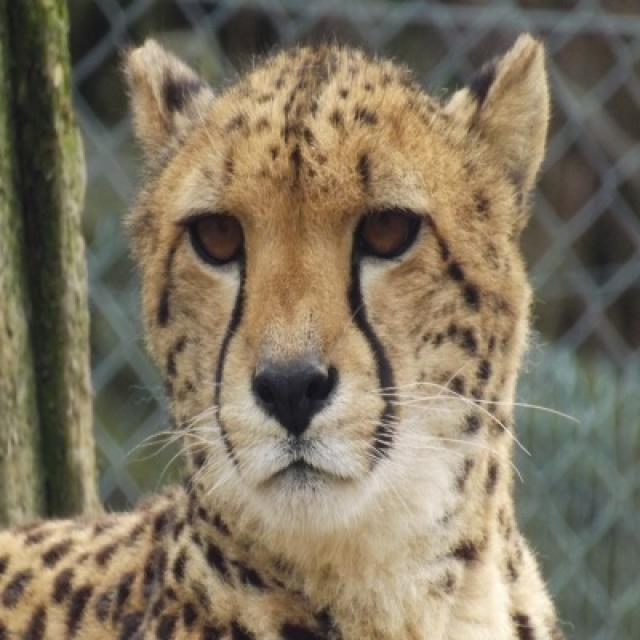Cheetah: (0, 34, 562, 638)
